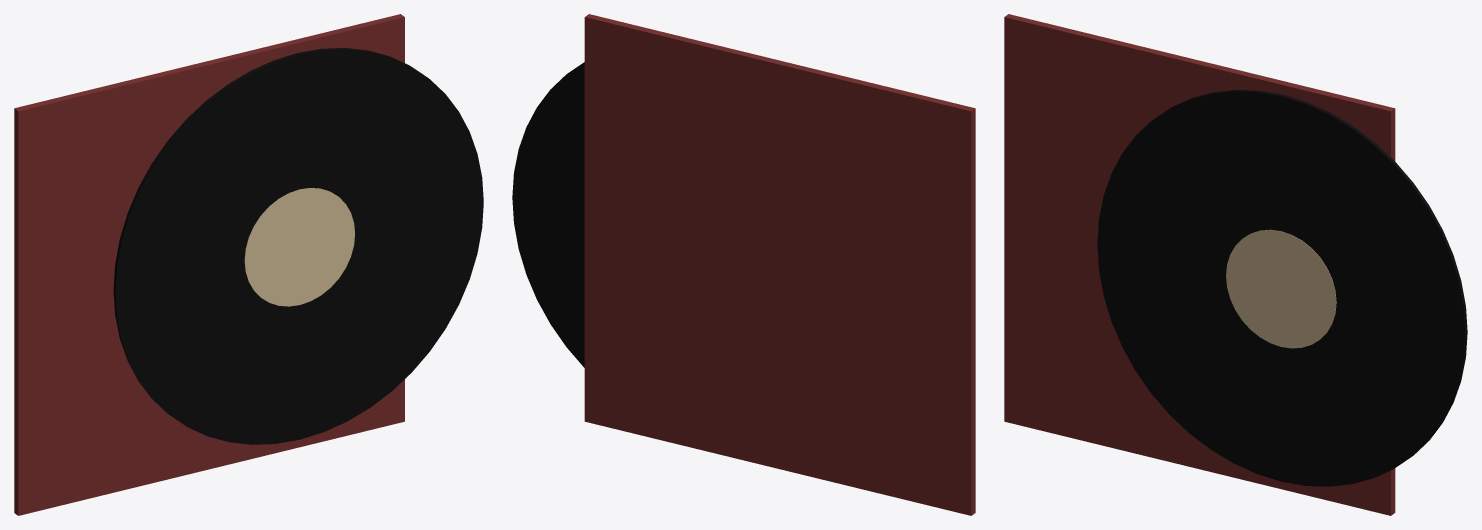
The model's file is record-0.glb.
The picture shows the model from 3 angles, left to right: view 1: azimuth 30°, elevation 25°; view 2: azimuth 150°, elevation 25°; view 3: azimuth 330°, elevation 25°; orthographic projection.
Size of the model in its own units: 0.3775 by 0.315 by 0.0093.
